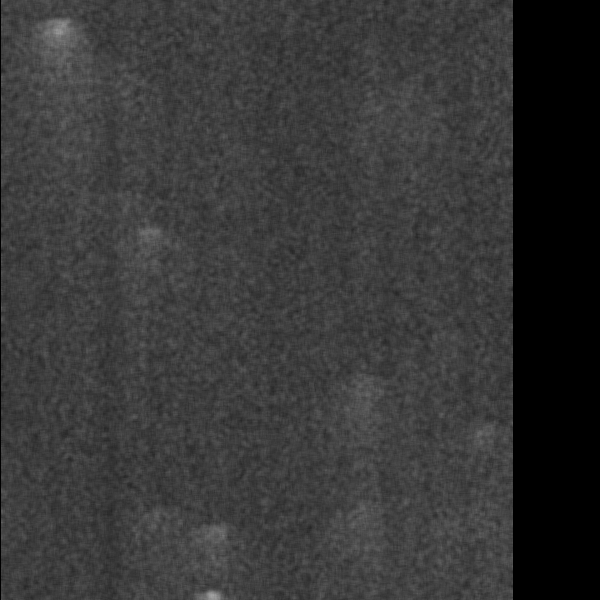spark: (344, 372, 380, 451), (31, 16, 81, 64), (184, 523, 240, 555), (130, 222, 174, 256), (463, 423, 501, 461), (134, 505, 159, 537), (191, 586, 230, 600)
